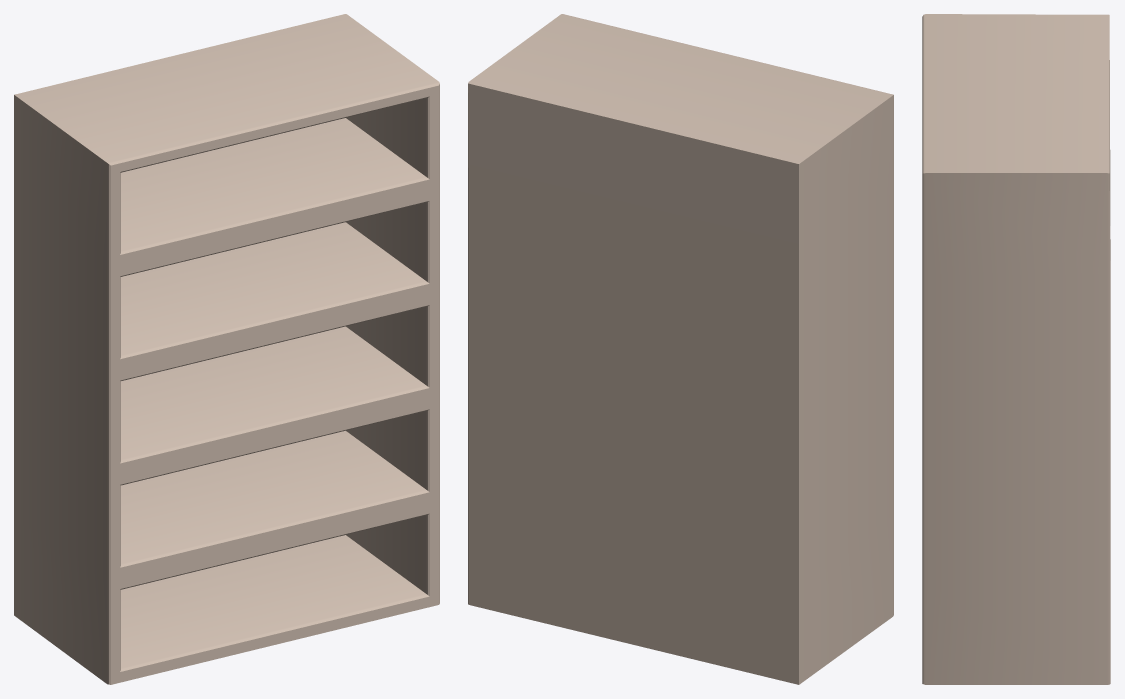
The model's file is prop_simple_boockshelf.fbx.
3 views of the same model, side by side, from view 1: azimuth 30°, elevation 25°; view 2: azimuth 150°, elevation 25°; view 3: azimuth 270°, elevation 25° (orthographic).
Parts seen in each view (by area): view 1: Estantería sencilla; view 2: Estantería sencilla; view 3: Estantería sencilla.
Boxes of the visible parts, box(x1,y1,x2,y2) form: Estantería sencilla: box(14, 14, 439, 684); Estantería sencilla: box(468, 14, 893, 684); Estantería sencilla: box(922, 14, 1110, 684).
Size of the model in its own units: 120 by 180 by 60.
1 material, 1 textured.
